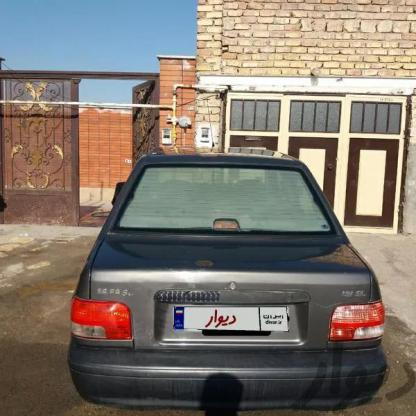Car: (70, 152, 394, 410)
